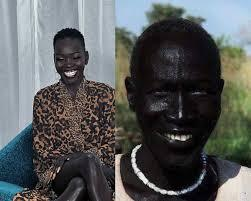Persons: (123, 13, 235, 173), (44, 25, 99, 94)
